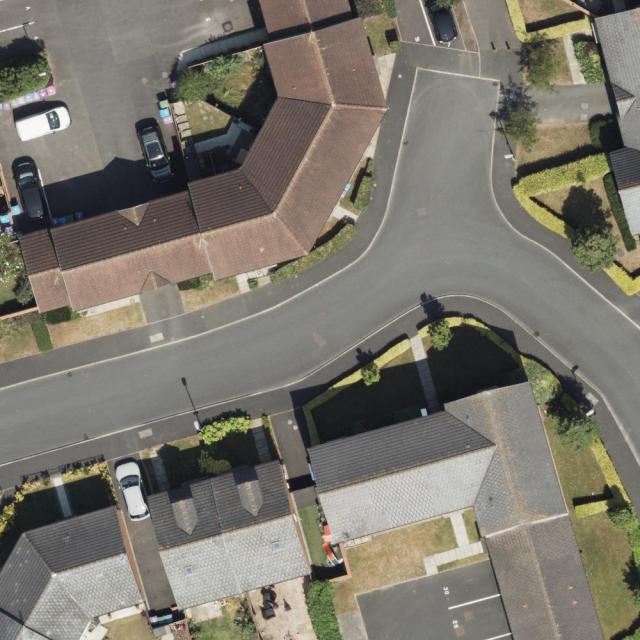roof: (15, 0, 388, 313), (307, 380, 605, 640), (145, 461, 310, 613), (0, 506, 144, 640), (593, 7, 640, 237)
skylight: (183, 564, 195, 576), (272, 540, 283, 553)
